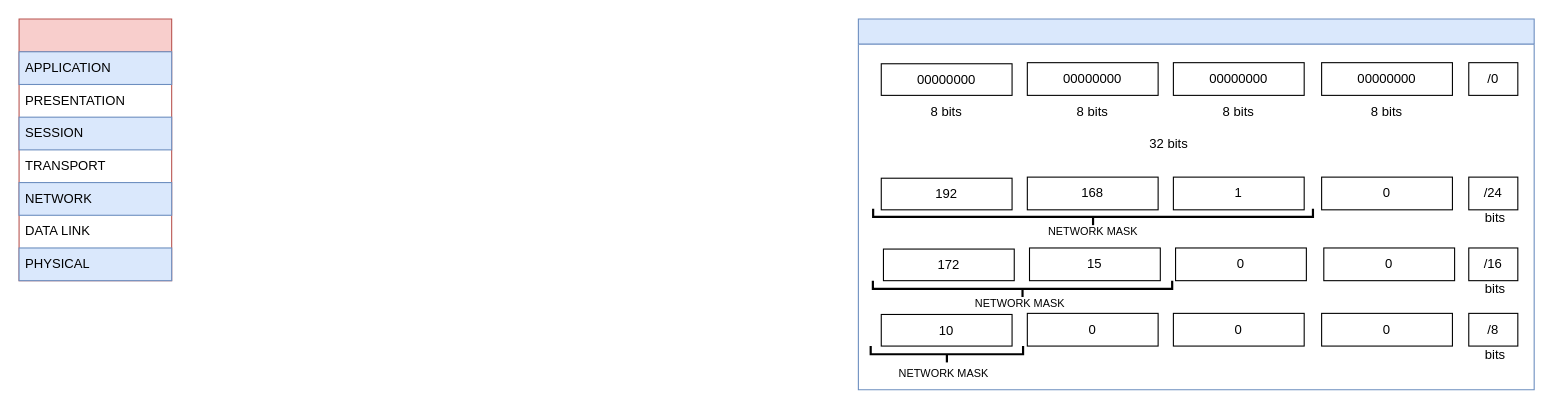
Image size: 1553x409. Some labels were removed from this diagram. The shapes that lost their labels are listed below. From the top down, each one's box as (x1, y1, x2, y2) in pixels, then its label:
(18, 18, 172, 281): OSI LAYERS
(857, 18, 1534, 390): IP - INTERNET PROTOCOL
